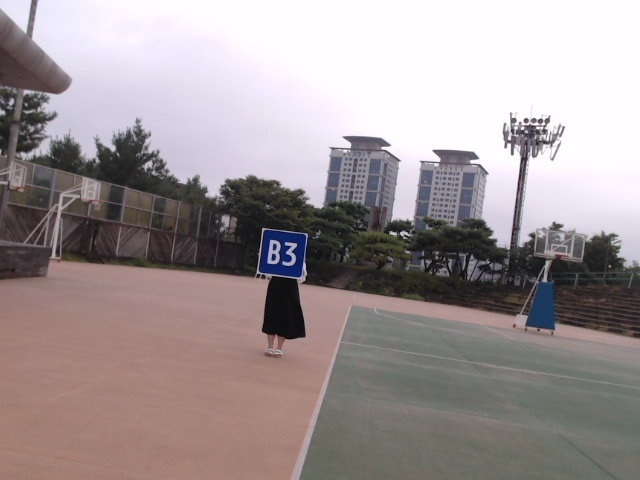delivery_b3: (257, 229, 308, 279)
